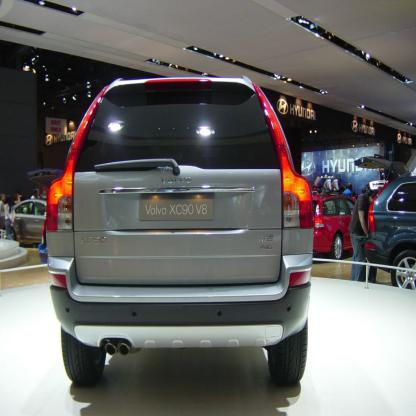car: (47, 78, 313, 387)
